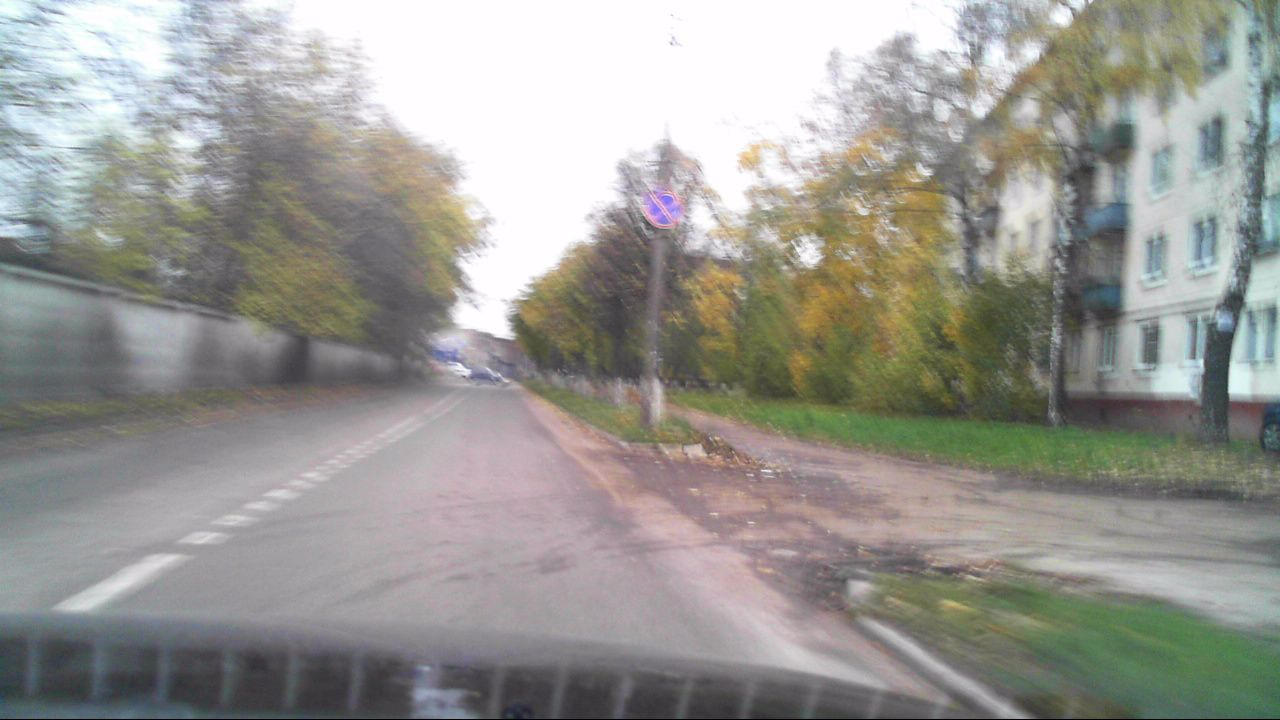No Parking: (645, 190, 684, 229)
